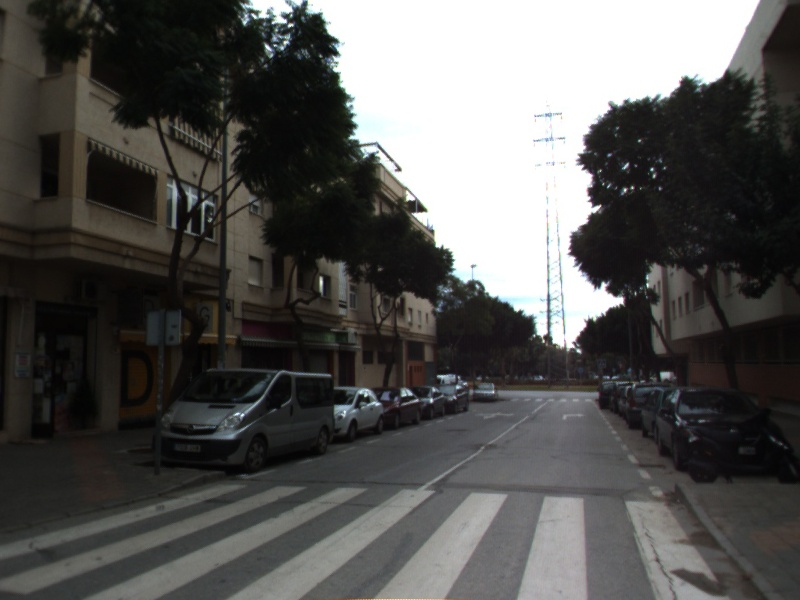RIGHT: (561, 411, 587, 422)
